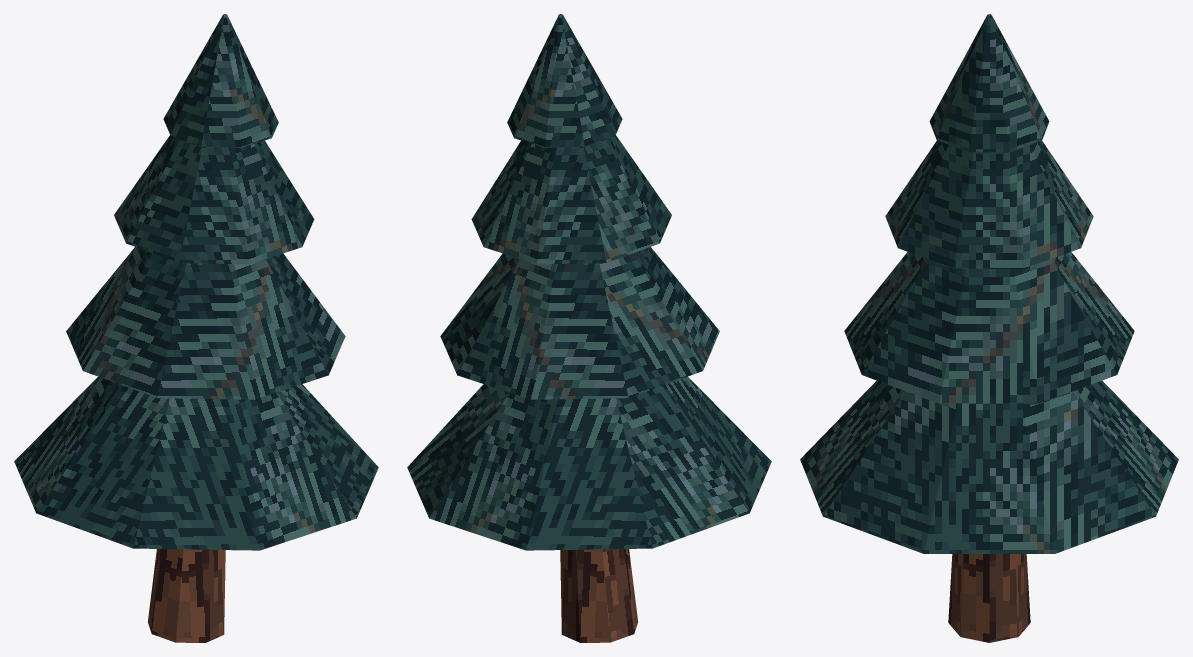
The model's file is arvore_jovem.fbx.
3 renders of one model, left to right at view 1: azimuth 30°, elevation 25°; view 2: azimuth 150°, elevation 25°; view 3: azimuth 270°, elevation 25°, orthographic. The views are drawn at different scales.
Visible parts, largest first — view 1: pedreira_arvore_jovem; view 2: pedreira_arvore_jovem; view 3: pedreira_arvore_jovem.
Boxes of the visible parts, left/top/right/bottom form: pedreira_arvore_jovem: left=14, top=14, right=378, bottom=642; pedreira_arvore_jovem: left=407, top=14, right=771, bottom=642; pedreira_arvore_jovem: left=800, top=14, right=1178, bottom=642.
Size of the model in its own units: 86.1 by 161 by 87.45.
2 materials, 2 textured.
